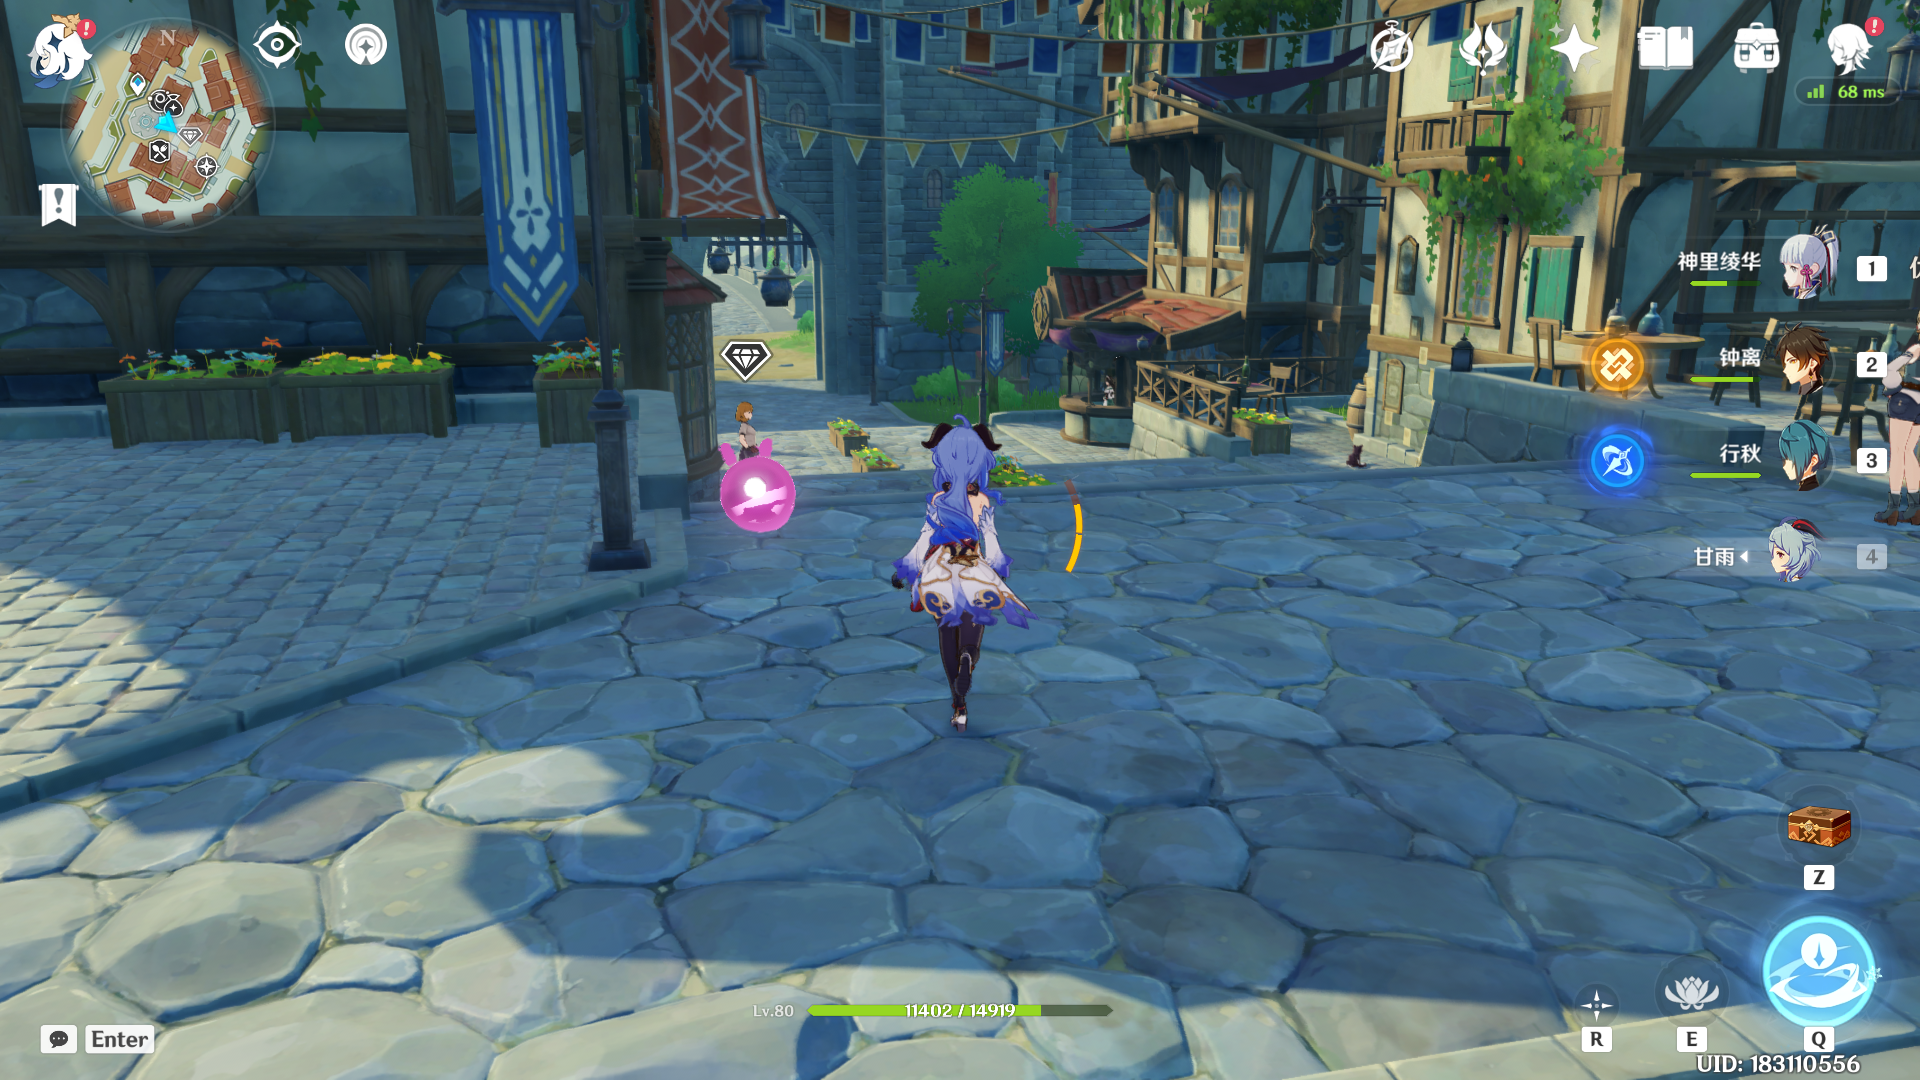character: (861, 392, 1084, 744)
